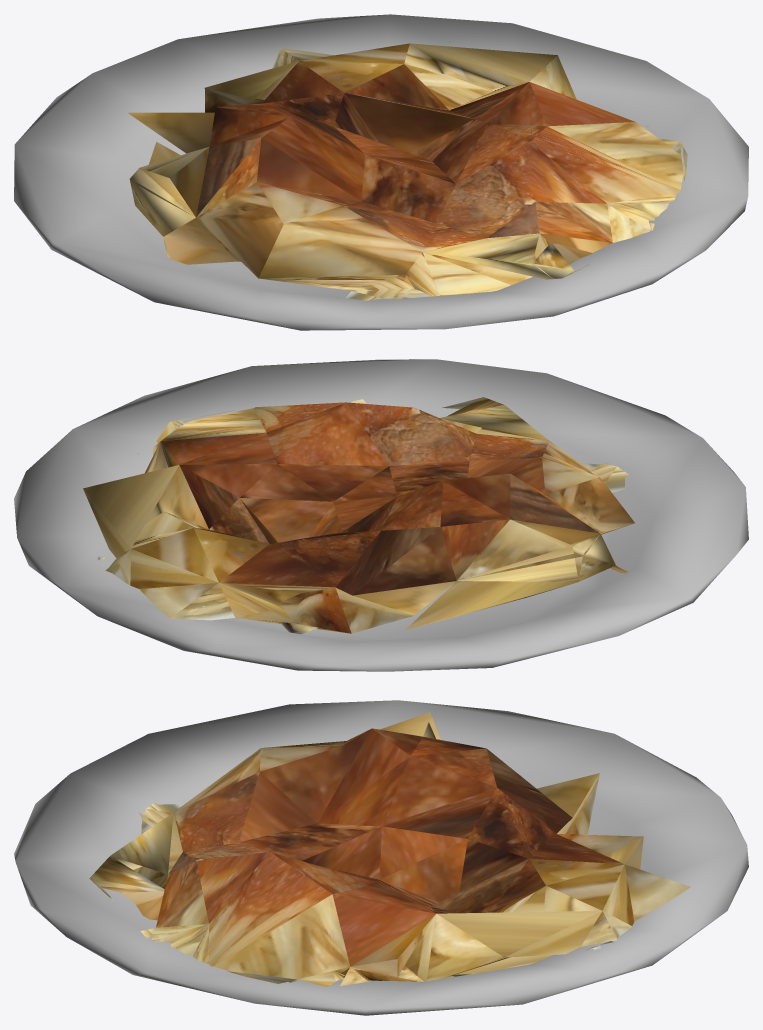
The model's file is plateWithFood2.fbx.
The picture shows the model from 3 angles, top to bottom: view 1: azimuth 30°, elevation 25°; view 2: azimuth 150°, elevation 25°; view 3: azimuth 270°, elevation 25°; orthographic projection.
Visible parts, largest first — view 1: Dish_Circle; view 2: Dish_Circle; view 3: Dish_Circle.
Boxes of the visible parts, <box> form: Dish_Circle: <box>14,14,748,330</box>; Dish_Circle: <box>14,359,748,671</box>; Dish_Circle: <box>14,700,748,1015</box>.
Size of the model in its own units: 116 by 19.24 by 116.
